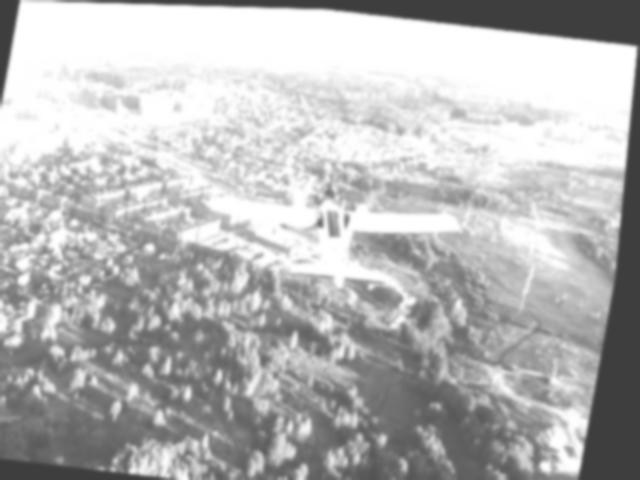hedef: (192, 170, 481, 306)
